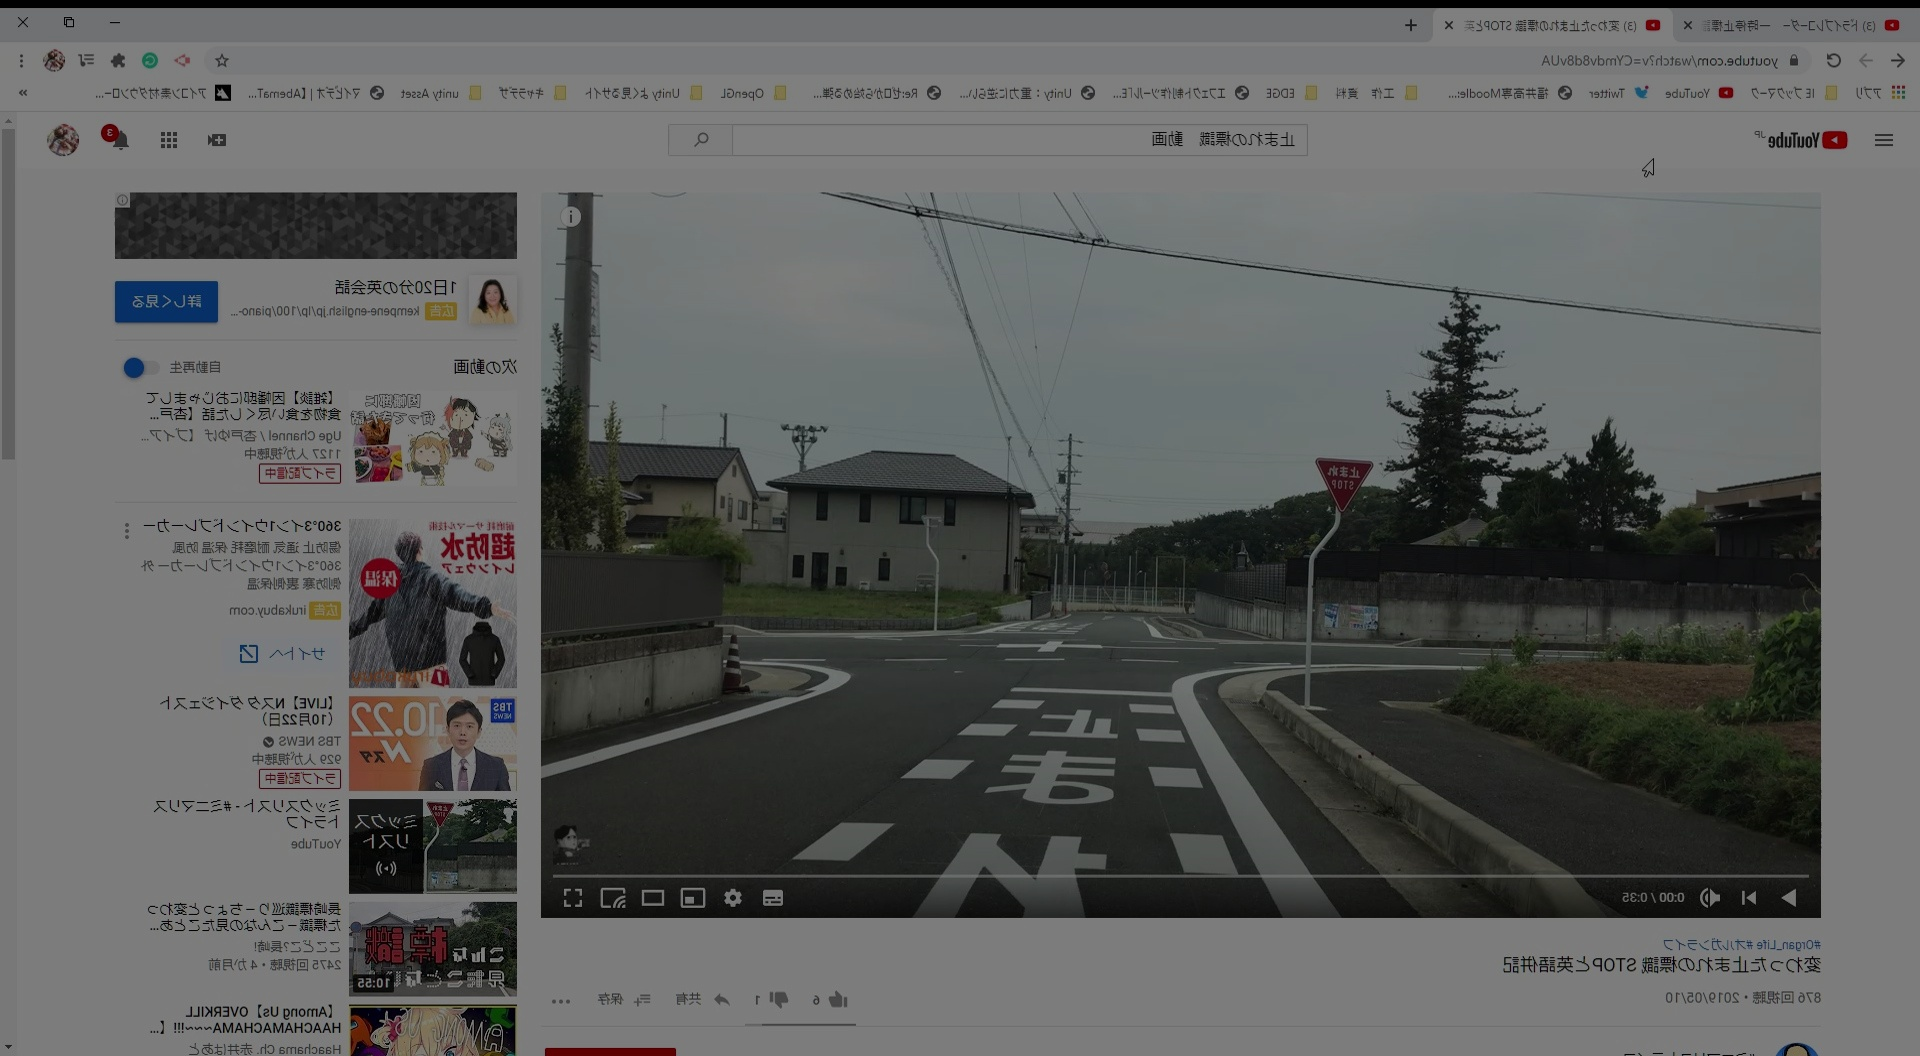Regulatory_sign_triangle: (1309, 443, 1381, 515)
